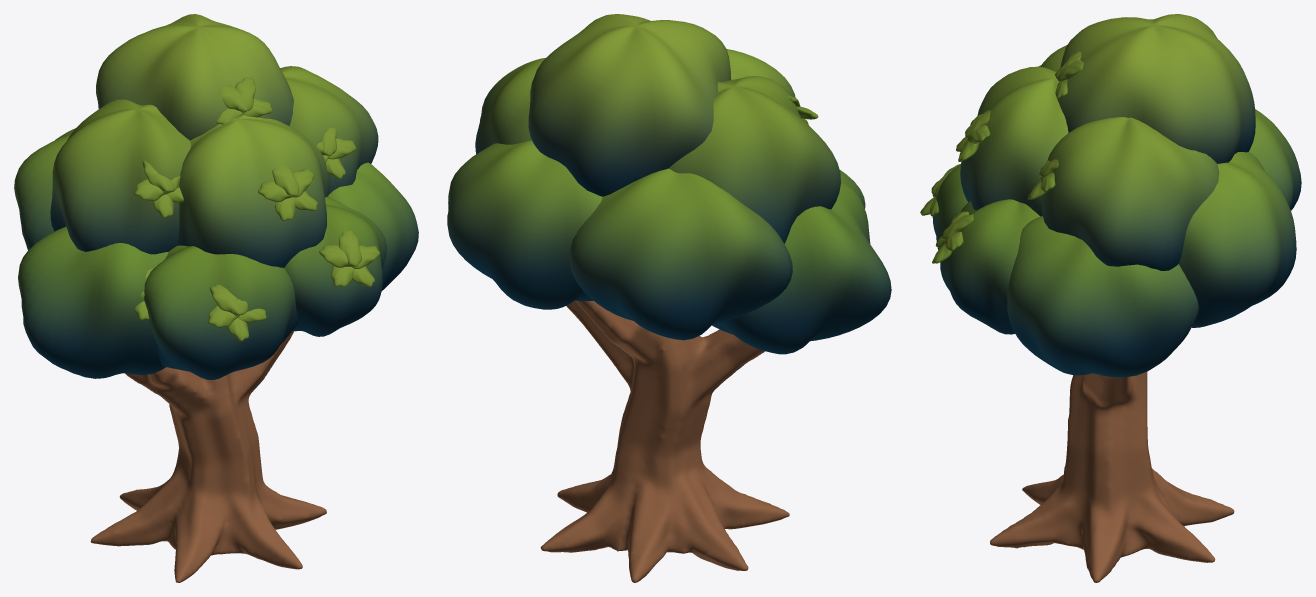
Rendered from courtyard-tree.glb.
3 renders of one model, left to right at view 1: azimuth 30°, elevation 25°; view 2: azimuth 150°, elevation 25°; view 3: azimuth 270°, elevation 25°, orthographic. The views are drawn at different scales.
Parts seen in each view (by area): view 1: Courtyard canopy, Courtyard trunk; view 2: Courtyard canopy, Courtyard trunk; view 3: Courtyard canopy, Courtyard trunk.
Part boxes in pixels (x1,y1,x2,y2): Courtyard canopy: [14, 14, 418, 379]; Courtyard trunk: [90, 331, 326, 582]; Courtyard canopy: [447, 14, 891, 354]; Courtyard trunk: [540, 300, 789, 582]; Courtyard canopy: [920, 14, 1301, 377]; Courtyard trunk: [990, 372, 1234, 582].
Size of the model in its own units: 4.99 by 6.23 by 4.19.
